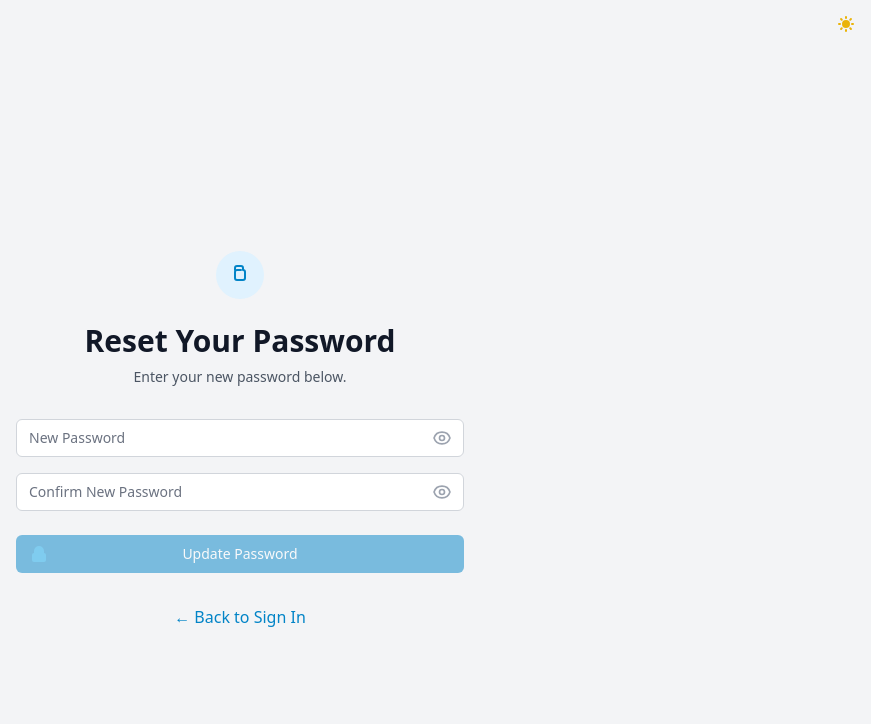
it: ResetPassword Component › Form Validation › should validate password confirmation
The image size is (871, 724).
In the password field with placeholder "New Password": point(240, 438) [16,419,464,457], type "password123"
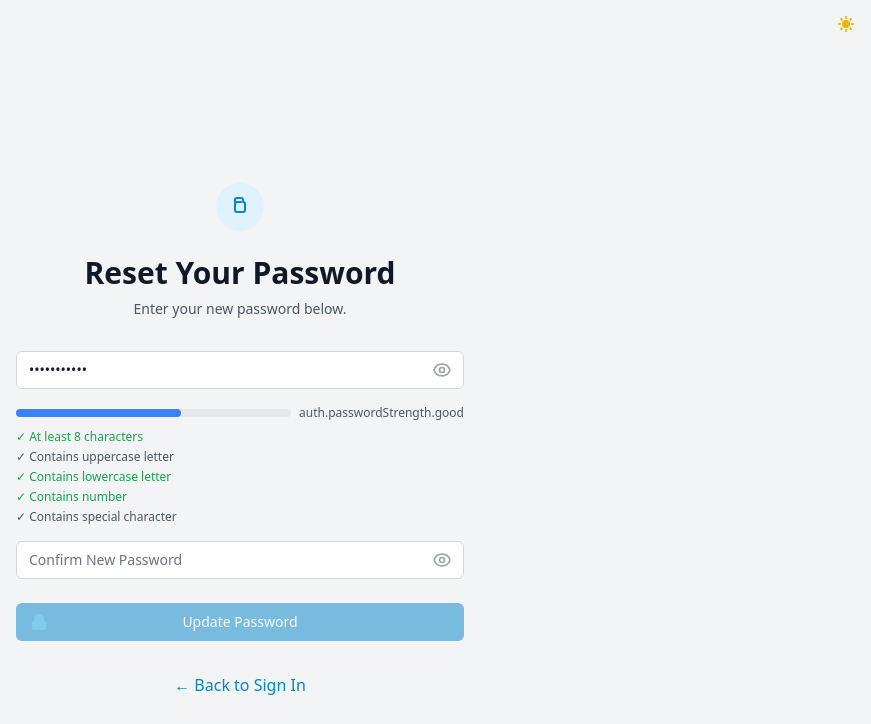
In the password field with id "confirm-password": point(240, 560) [16,541,464,579], type "differentpassword"
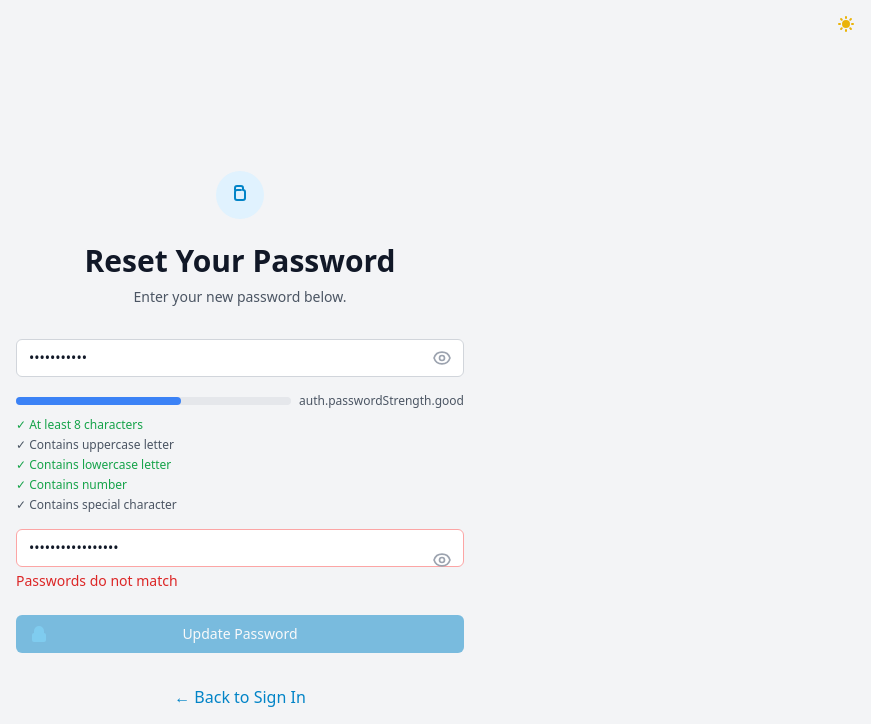
Expected: the text "Passwords do not match" is shown, [16,571,178,590]
